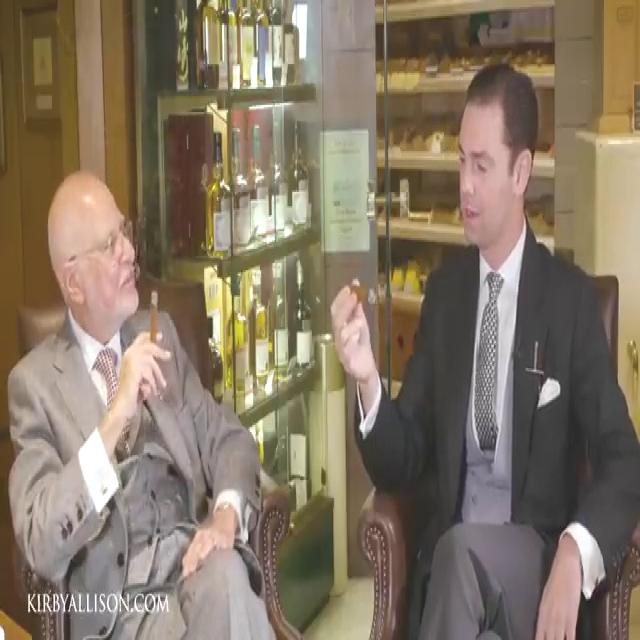Smooking: (344, 277, 384, 313), (148, 285, 164, 342)
